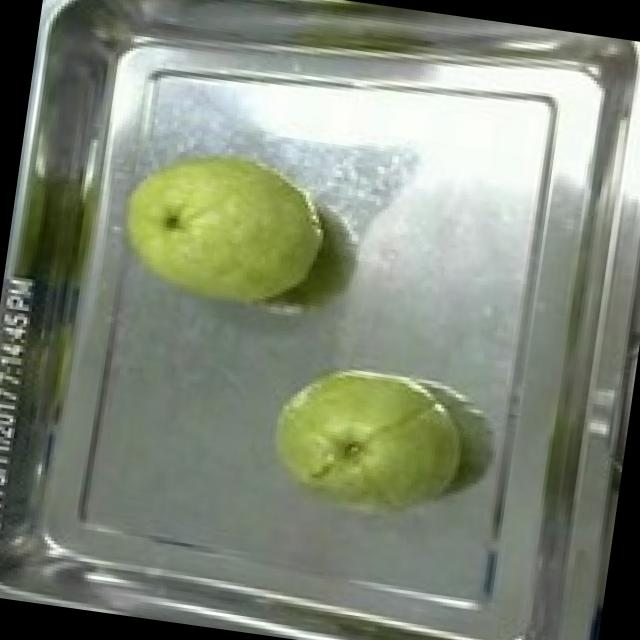Fruit: (96, 130, 342, 332), (248, 342, 478, 542)
